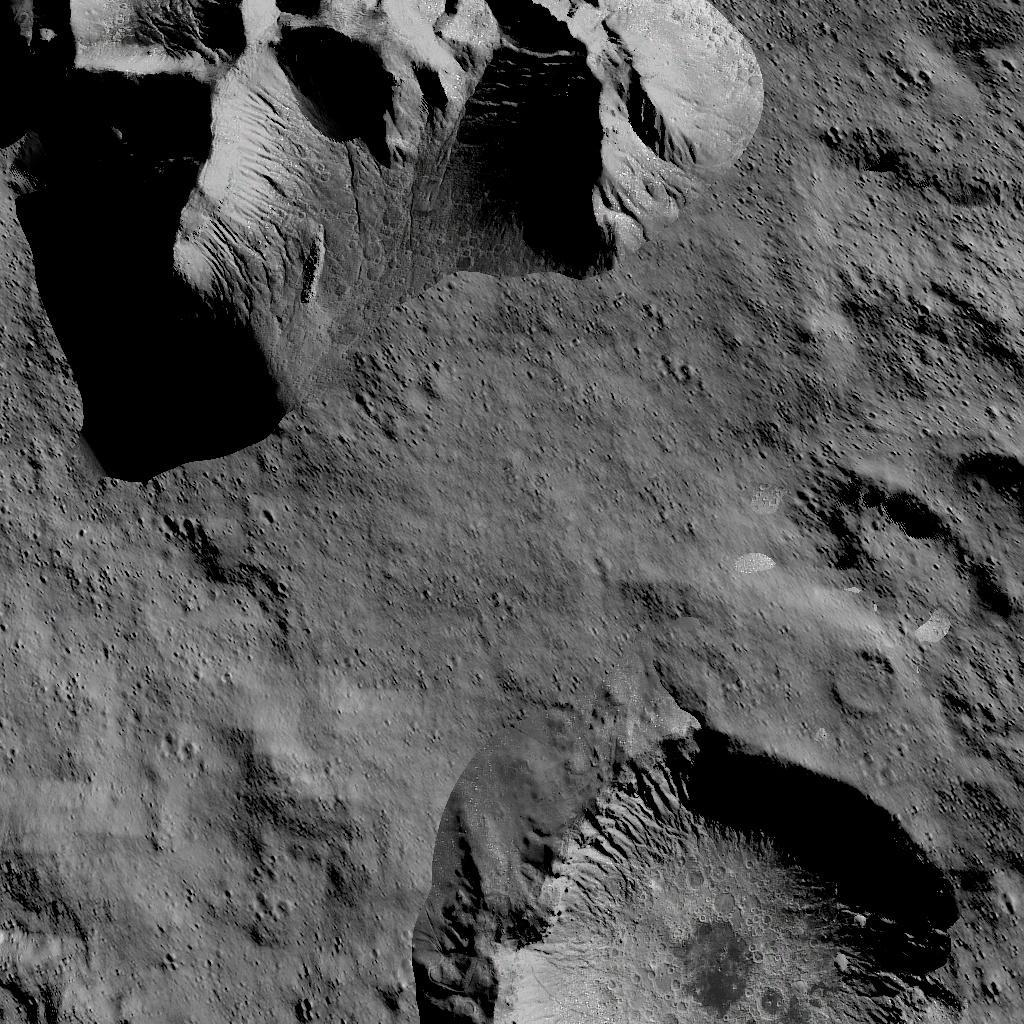Boulders: (0, 0, 768, 476)
Crater: (423, 688, 988, 1024), (805, 446, 1024, 638)
Plan surface: (0, 518, 396, 934), (815, 0, 1024, 394), (424, 498, 792, 654)
